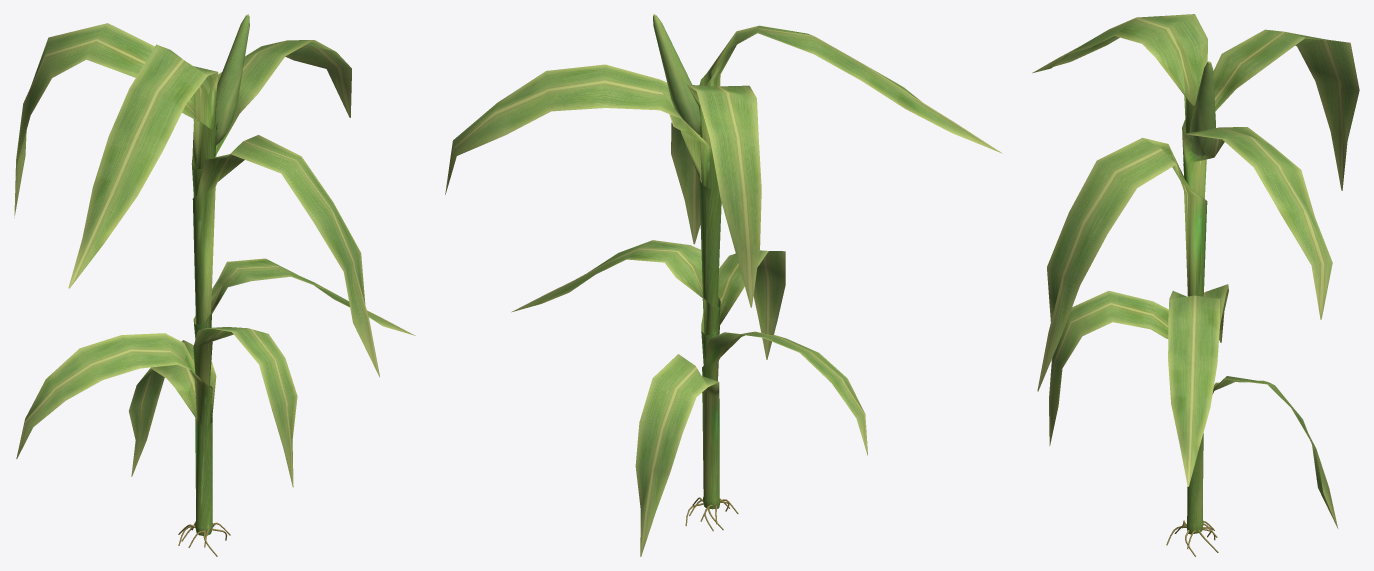
File: corn.dae
3 renders of one model, left to right at view 1: azimuth 30°, elevation 25°; view 2: azimuth 150°, elevation 25°; view 3: azimuth 270°, elevation 25°, orthographic. The views are drawn at different scales.
Parts seen in each view (by area): view 1: Plane.013, Plane.012, Plane.011, Plane.014, Plane.008, Plane.010, Plane.015, Plane.009, Cylinder.001; view 2: Plane.015, Plane.008, Plane.014, Plane.013, Plane.012, Plane.010, Plane.009, Plane.011, Cylinder.001; view 3: Plane.012, Plane.014, Plane.015, Plane.009, Plane.013, Plane.010, Plane.008, Cylinder.001, Plane.011.
Part boxes in pixels (left/top/right/bottom): Plane.013: left=68, top=44, right=218, bottom=288; Plane.012: left=192, top=135, right=379, bottom=377; Plane.011: left=16, top=333, right=212, bottom=458; Plane.014: left=14, top=23, right=217, bottom=217; Plane.008: left=129, top=340, right=216, bottom=535; Plane.010: left=193, top=327, right=297, bottom=487; Plane.015: left=191, top=40, right=351, bottom=197; Plane.009: left=193, top=258, right=415, bottom=339; Cylinder.001: left=215, top=14, right=249, bottom=145; Plane.015: left=445, top=64, right=718, bottom=194; Plane.008: left=635, top=354, right=720, bottom=556; Plane.014: left=687, top=84, right=761, bottom=307; Plane.013: left=699, top=25, right=1002, bottom=153; Plane.012: left=671, top=122, right=721, bottom=306; Plane.010: left=701, top=250, right=785, bottom=365; Plane.009: left=511, top=240, right=720, bottom=335; Plane.011: left=702, top=331, right=867, bottom=455; Cylinder.001: left=653, top=14, right=700, bottom=134; Plane.012: left=1037, top=137, right=1207, bottom=391; Plane.014: left=1182, top=29, right=1359, bottom=190; Plane.015: left=1182, top=127, right=1332, bottom=319; Plane.009: left=1168, top=291, right=1219, bottom=486; Plane.013: left=1032, top=14, right=1207, bottom=133; Plane.010: left=1049, top=290, right=1168, bottom=445; Plane.008: left=1186, top=376, right=1338, bottom=534; Cylinder.001: left=1189, top=61, right=1215, bottom=158; Plane.011: left=1203, top=284, right=1228, bottom=342.
Size of the model in its own units: 0.9752 by 0.6537 by 1.12.
